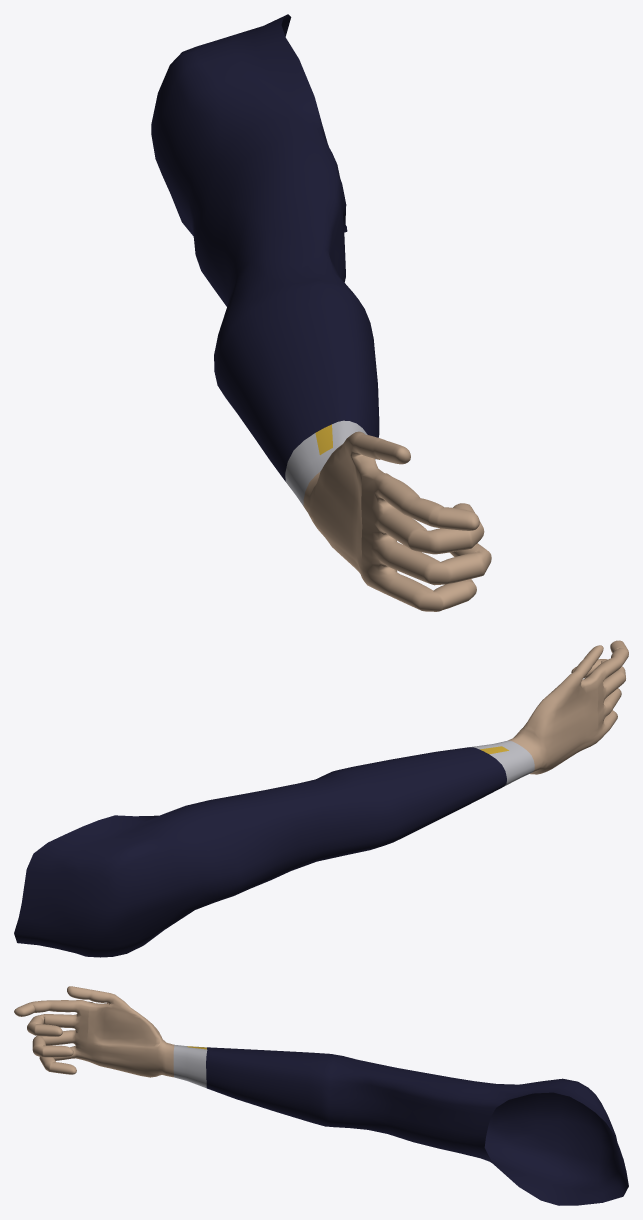
The model's file is PlayerArm.fbx.
3 views of the same model, one above another, from view 1: azimuth 30°, elevation 25°; view 2: azimuth 150°, elevation 25°; view 3: azimuth 270°, elevation 25° (orthographic). The views are drawn at different scales.
Visible parts, largest first — view 1: PlayerArm; view 2: PlayerArm; view 3: PlayerArm.
Boxes of the visible parts, x1,y1,x2,y2 form: PlayerArm: [151, 14, 491, 611]; PlayerArm: [14, 640, 628, 957]; PlayerArm: [14, 986, 628, 1205].
Bounding box in the file's own units: 9.53 × 4.68 × 22.27.
